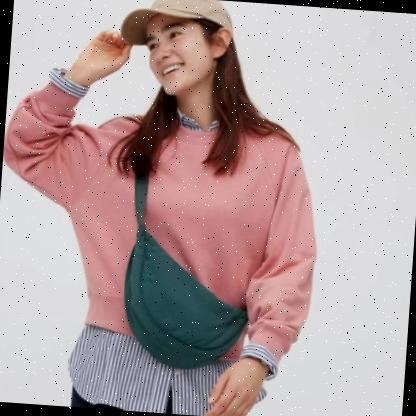bag: (109, 207, 262, 380)
person: (0, 0, 337, 416)
